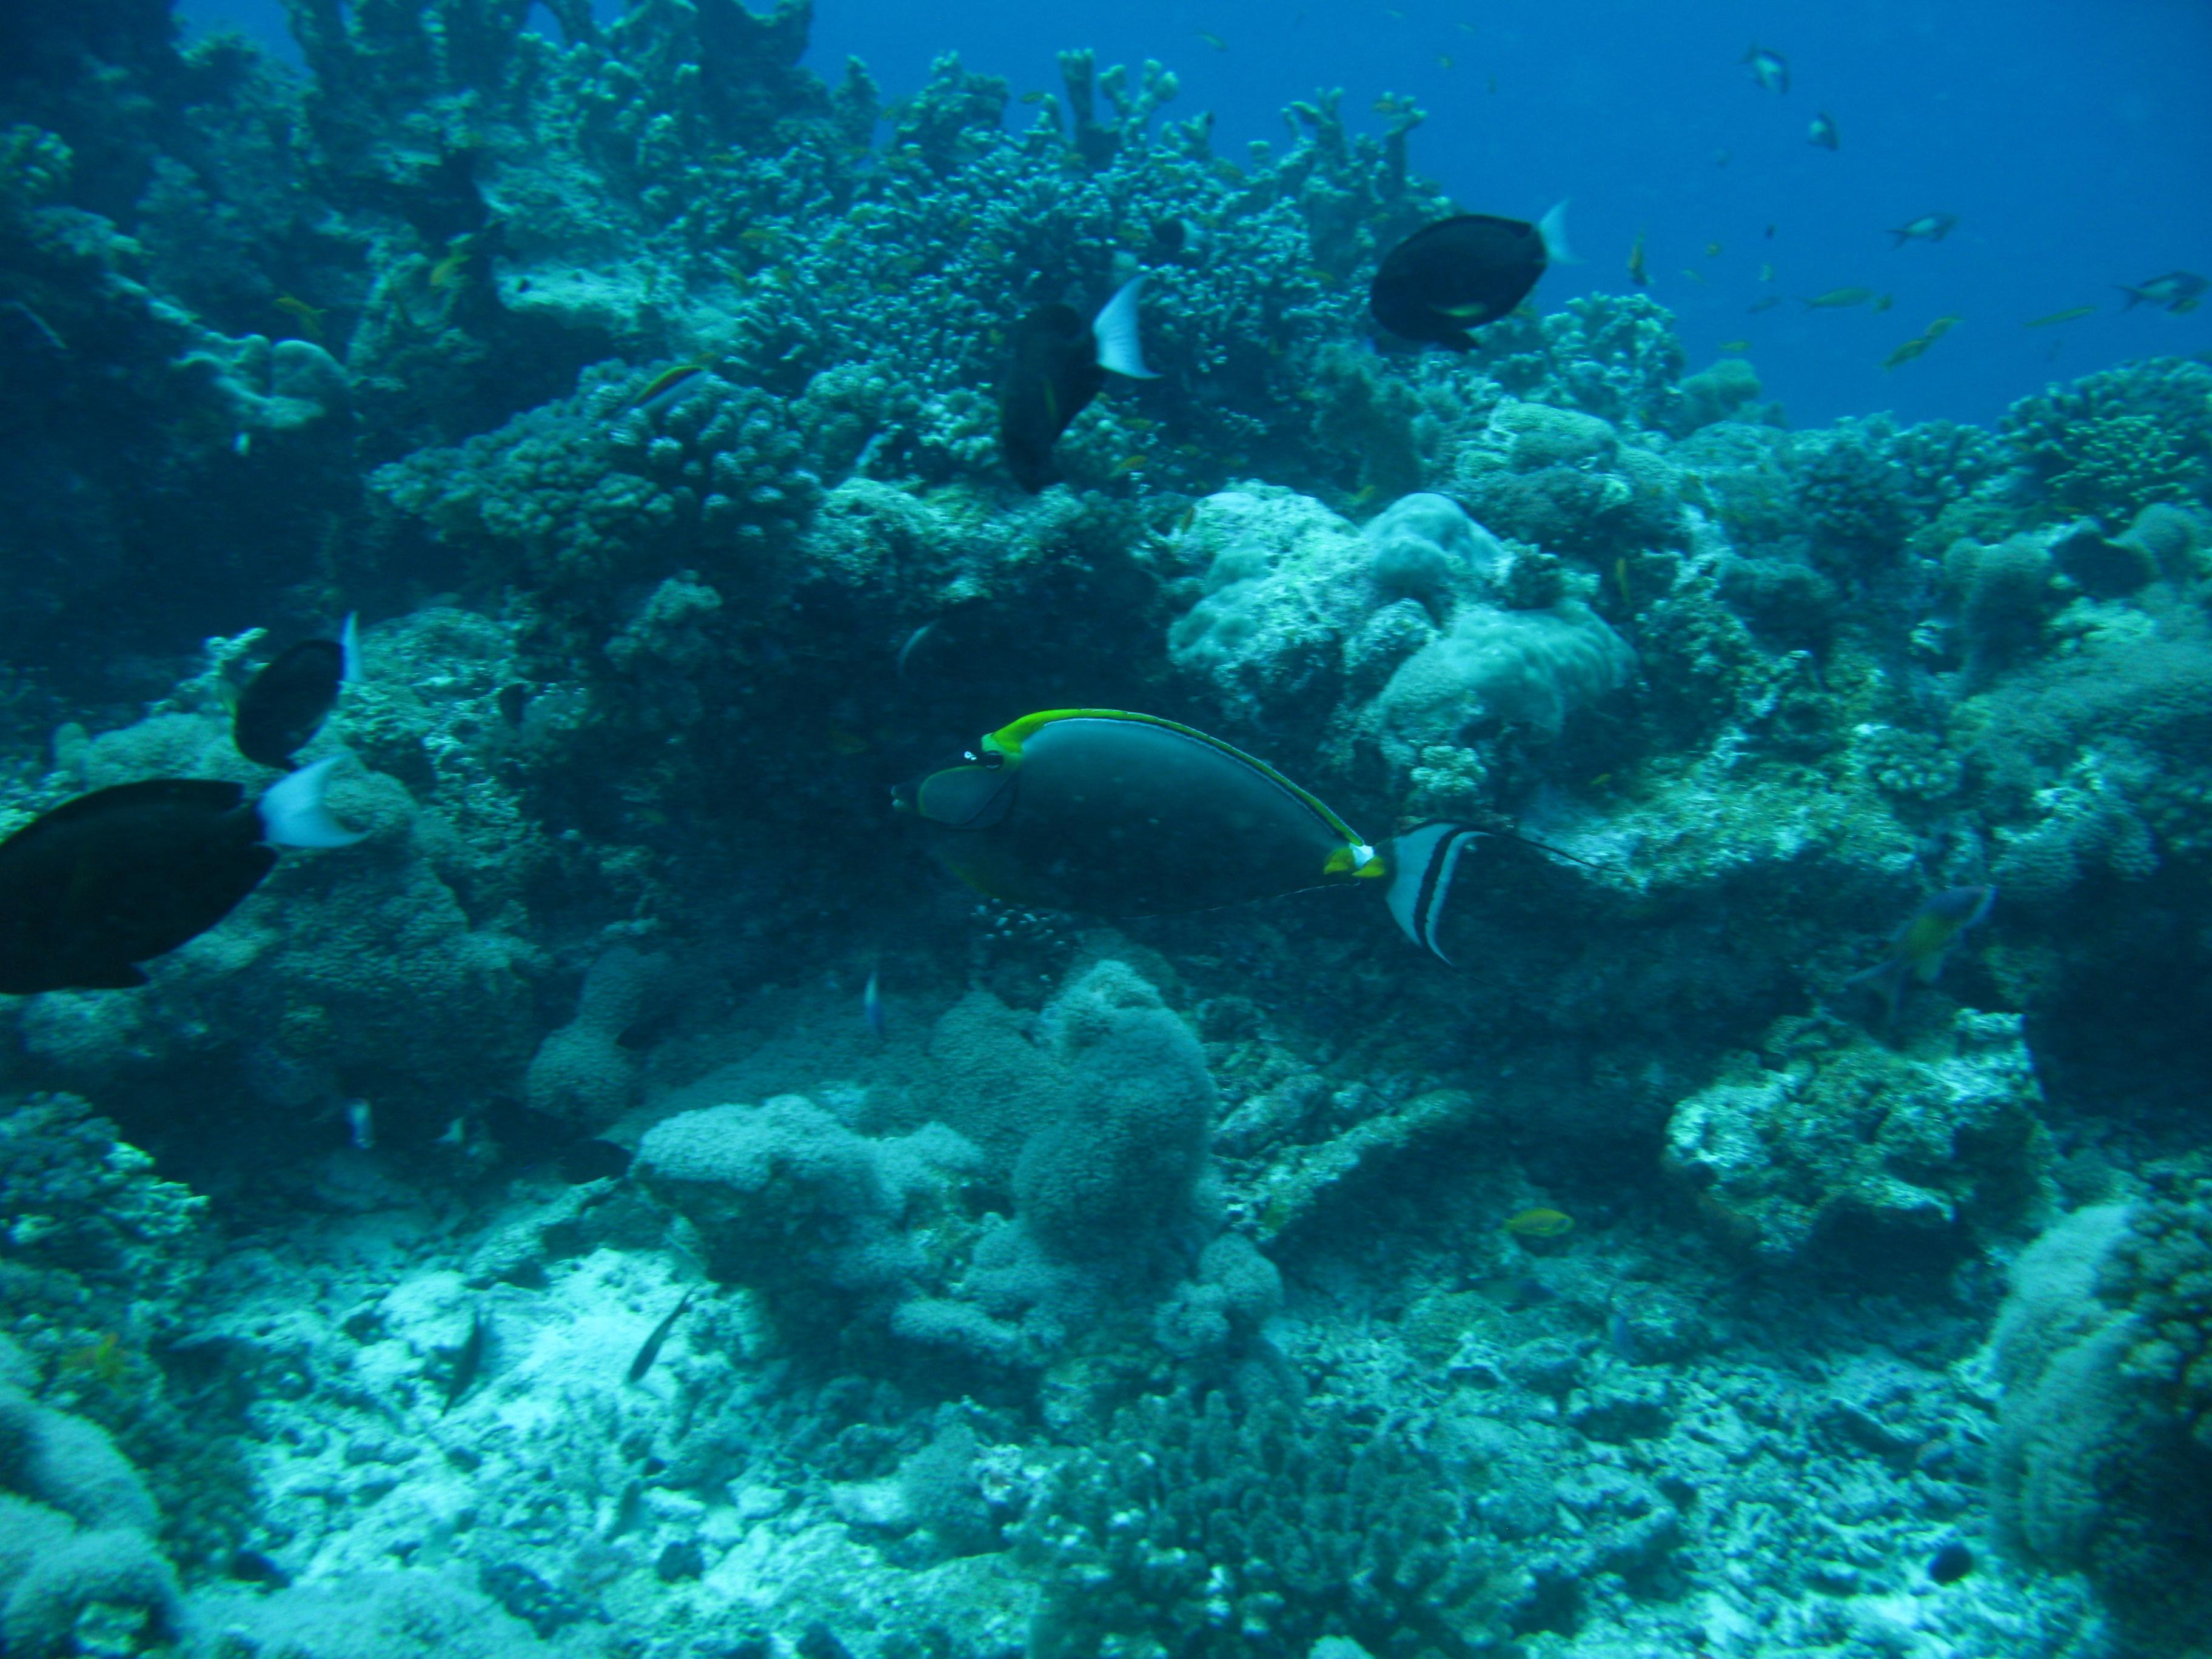Fish: (824, 610, 1592, 1032)
